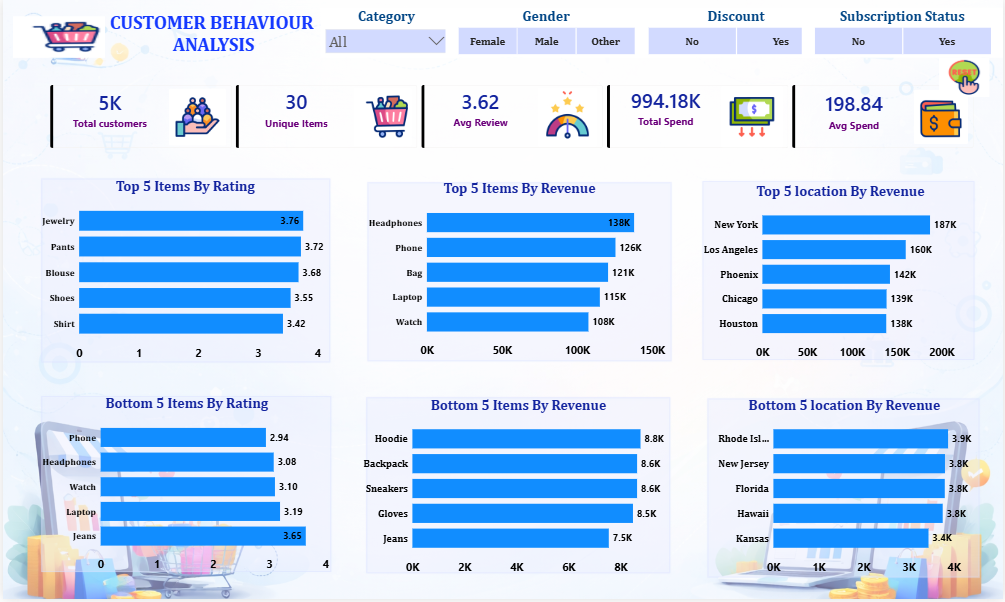

The dashboard page shown, as its layout file describes it:
{"tool":"powerbi","page":{"name":"Best-Worst","canvas":[2000,1200],"ordinal":1},"visuals":[{"type":"cardVisual","fields":{"Data":["data_analysis_project customer_behaviour_analysis.Total customers","data_analysis_project customer_behaviour_analysis.Unique Items","data_analysis_project customer_behaviour_analysis.Avg Review","data_analysis_project customer_behaviour_analysis.Total Spend","data_analysis_project customer_behaviour_analysis.Avg Spend"]},"box":[78,154,1882,160],"z":0},{"type":"group","id":"g1","title":"Group 1","box":[72,356,586,375.9],"z":0,"group":"g3"},{"type":"shape","box":[72,356,586,375.9],"z":0,"group":"g1"},{"type":"shape","box":[724,362,616,366],"z":0,"group":"g6"},{"type":"group","id":"g2","title":"Group 1","box":[72,790,588,360],"z":0,"group":"g4"},{"type":"shape","box":[72,790,588,360],"z":0,"group":"g2"},{"type":"shape","box":[724,792,616,360],"z":0,"group":"g9"},{"type":"group","id":"g3","title":"Group 3","box":[72,356,586,376],"z":1000},{"type":"clusteredBarChart","title":"Top 5 Items By Rating","fields":{"Category":["data_analysis_project customer_behaviour_analysis.item_purchased"],"Y":["Avg(data_analysis_project customer_behaviour_analysis.review_rating)"]},"box":[72,358.1,584,375.9],"z":1000,"group":"g3"},{"type":"shape","box":[1404,794,552,366],"z":1000,"group":"g10"},{"type":"shape","box":[1396,360,552,366],"z":2000,"group":"g8"},{"type":"group","id":"g4","title":"Group 4","box":[72,790,590,366],"z":2000},{"type":"clusteredBarChart","title":"Bottom 5 Items By Rating","fields":{"Category":["data_analysis_project customer_behaviour_analysis.item_purchased"],"Y":["Avg(data_analysis_project customer_behaviour_analysis.review_rating)"]},"box":[72,792,590,364],"z":2000,"group":"g4"},{"type":"group","id":"g5","title":"Group 2","box":[724,362,616,366],"z":3000},{"type":"group","id":"g6","title":"Group 1","box":[724,362,616,366],"z":4000,"group":"g5"},{"type":"group","id":"g7","title":"Group 5","box":[716,792,632,368],"z":4000},{"type":"group","id":"g8","title":"Group 6","box":[1396,360,560,372],"z":5000},{"type":"group","id":"g9","title":"Group 1","box":[724,792,616,360],"z":6000,"group":"g7"},{"type":"group","id":"g10","title":"Group 7","box":[1404,794,556,366],"z":6000},{"type":"textbox","box":[204,20,424,98],"z":6001},{"type":"actionButton","box":[20,36,184,82],"z":6002},{"type":"slicer","title":"Category","fields":{"Values":["data_analysis_project customer_behaviour_analysis.category"]},"box":[634,18,264,100],"z":6003},{"type":"slicer","title":"Gender","fields":{"Values":["data_analysis_project customer_behaviour_analysis.gender"]},"box":[884,18,402,100],"z":6004},{"type":"slicer","title":"Discount","fields":{"Values":["data_analysis_project customer_behaviour_analysis.discount_applied"]},"box":[1266,18,402,100],"z":6005},{"type":"slicer","title":"Subscription Status","fields":{"Values":["data_analysis_project customer_behaviour_analysis.subscription_status"]},"box":[1598,18,402,100],"z":6006},{"type":"actionButton","box":[1872,118,100,78],"z":6007},{"type":"clusteredBarChart","title":"Top 5 Items By Revenue","fields":{"Category":["data_analysis_project customer_behaviour_analysis.item_purchased"],"Y":["Sum(data_analysis_project customer_behaviour_analysis.purchase_amount)"]},"box":[724,362,616,366],"z":7000,"group":"g5"},{"type":"clusteredBarChart","title":"Bottom 5 Items By Revenue","fields":{"Category":["data_analysis_project customer_behaviour_analysis.item_purchased"],"Y":["Sum(data_analysis_project customer_behaviour_analysis.purchase_amount)"]},"box":[716,794,632,366],"z":8000,"group":"g7"},{"type":"clusteredBarChart","title":"Top 5 location By Revenue","fields":{"Category":["data_analysis_project customer_behaviour_analysis.location"],"Y":["Sum(data_analysis_project customer_behaviour_analysis.purchase_amount)"]},"box":[1396,368,560,364],"z":8003,"group":"g8"},{"type":"clusteredBarChart","title":"Bottom 5 location By Revenue","fields":{"Category":["data_analysis_project customer_behaviour_analysis.location"],"Y":["Sum(data_analysis_project customer_behaviour_analysis.purchase_amount)"]},"box":[1404,794,556,366],"z":8004,"group":"g10"}]}

Visuals, with their boxes in screenshot pixels (x1, y1, x2, y2), scaled from the page's 2000x1200 canvas onto the 1005x602 screenshot:
cardVisual - data_analysis_project customer_behaviour_analysis.Total customers x data_analysis_project customer_behaviour_analysis.Unique Items: locate(39, 77, 985, 158)
"Group 1" group: locate(36, 179, 331, 367)
shape: locate(36, 179, 331, 367)
shape: locate(364, 182, 673, 365)
"Group 1" group: locate(36, 396, 332, 577)
shape: locate(36, 396, 332, 577)
shape: locate(364, 397, 673, 578)
"Group 3" group: locate(36, 179, 331, 367)
"Top 5 Items By Rating" clusteredBarChart: locate(36, 180, 330, 368)
shape: locate(706, 398, 983, 582)
shape: locate(701, 181, 979, 364)
"Group 4" group: locate(36, 396, 333, 580)
"Bottom 5 Items By Rating" clusteredBarChart: locate(36, 397, 333, 580)
"Group 2" group: locate(364, 182, 673, 365)
"Group 1" group: locate(364, 182, 673, 365)
"Group 5" group: locate(360, 397, 677, 582)
"Group 6" group: locate(701, 181, 983, 367)
"Group 1" group: locate(364, 397, 673, 578)
"Group 7" group: locate(706, 398, 985, 582)
textbox: locate(103, 10, 316, 59)
actionButton: locate(10, 18, 103, 59)
"Category" slicer: locate(319, 9, 451, 59)
"Gender" slicer: locate(444, 9, 646, 59)
"Discount" slicer: locate(636, 9, 838, 59)
"Subscription Status" slicer: locate(803, 9, 1004, 59)
actionButton: locate(941, 59, 991, 98)
"Top 5 Items By Revenue" clusteredBarChart: locate(364, 182, 673, 365)
"Bottom 5 Items By Revenue" clusteredBarChart: locate(360, 398, 677, 582)
"Top 5 location By Revenue" clusteredBarChart: locate(701, 185, 983, 367)
"Bottom 5 location By Revenue" clusteredBarChart: locate(706, 398, 985, 582)
